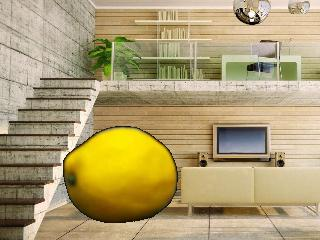lemon: (65, 129, 176, 223)
